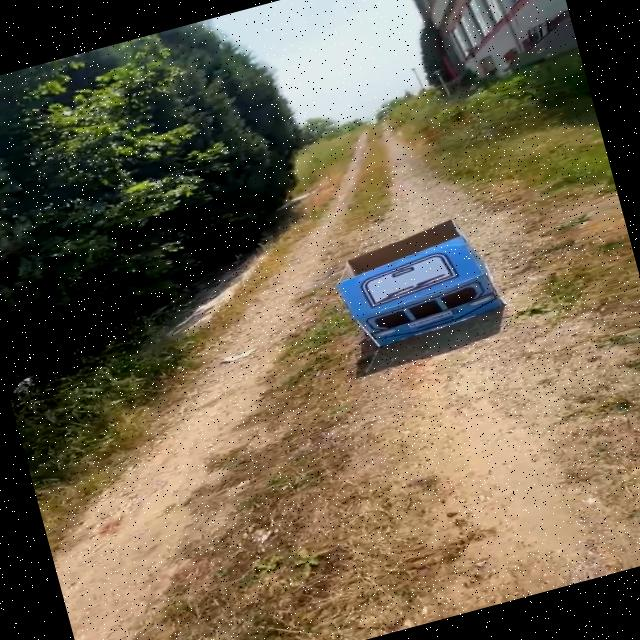blue_car: (300, 183, 554, 384)
